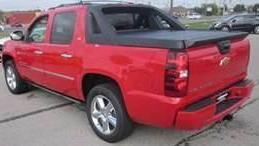back_view: (164, 39, 257, 132)
backlight: (164, 46, 193, 101)
side_glass: (25, 10, 80, 46)
